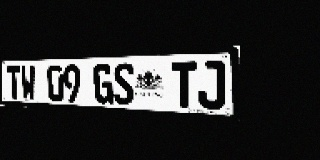0: (47, 65, 64, 102)
9: (63, 64, 81, 103)
G: (93, 64, 113, 104)
J: (198, 61, 225, 110)
S: (113, 63, 135, 105)
T: (171, 61, 197, 108), (7, 66, 21, 100)
W: (21, 66, 36, 101)
